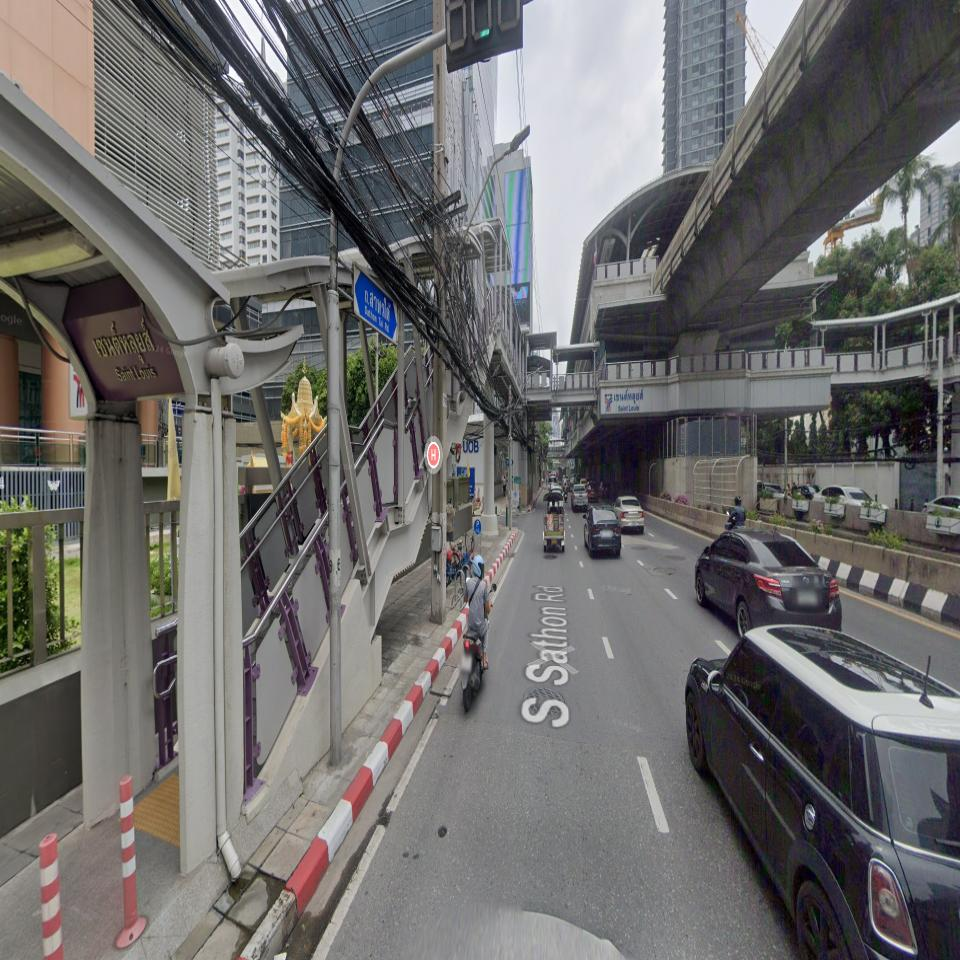Saint Louis: (63, 303, 187, 420), (64, 303, 186, 397), (604, 388, 644, 413), (614, 388, 644, 412)
